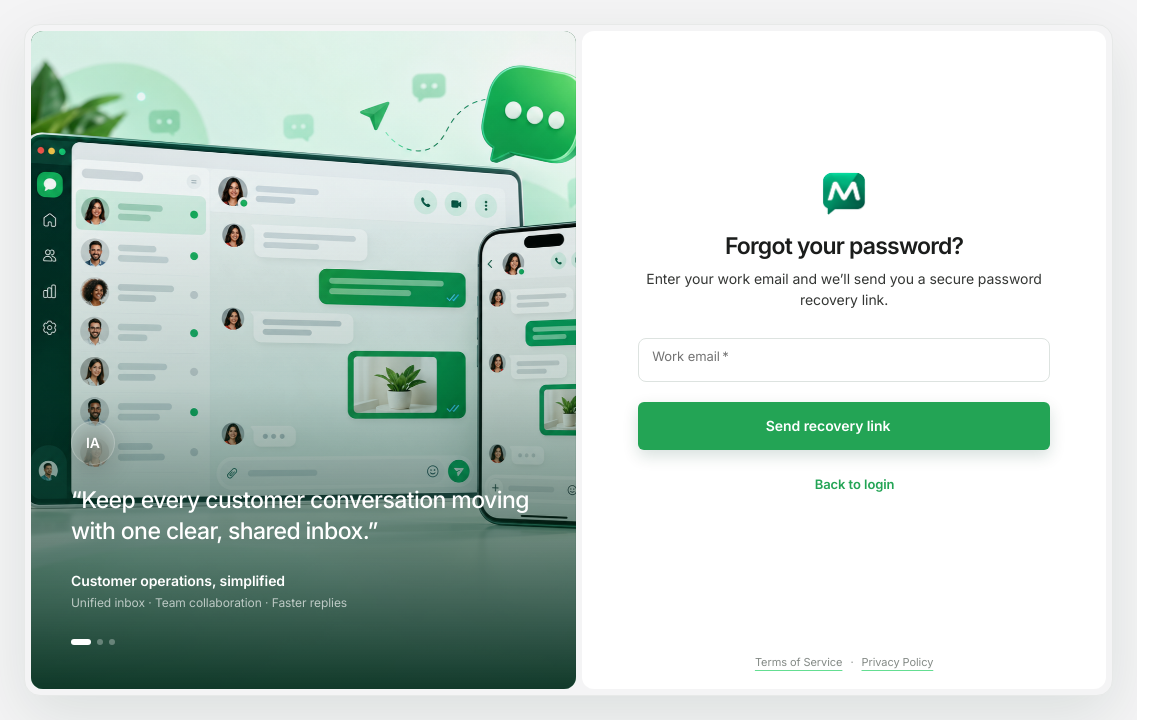
ForgotPassword › requests a recovery link and keeps the flow inside the shared auth shell
Type "owner@example.com" into the field labelled "Work email" at (844, 360), box 638,349 -> 1050,371
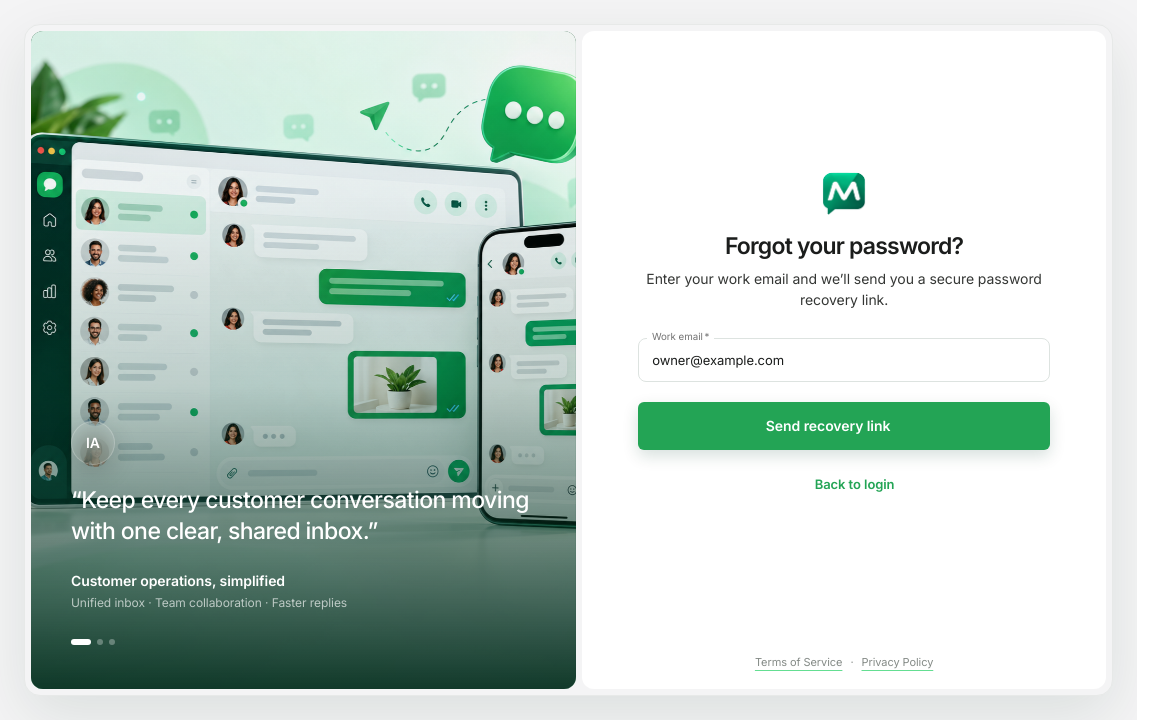
Click the button "Send recovery link" at (844, 426), box 638,402 -> 1050,450
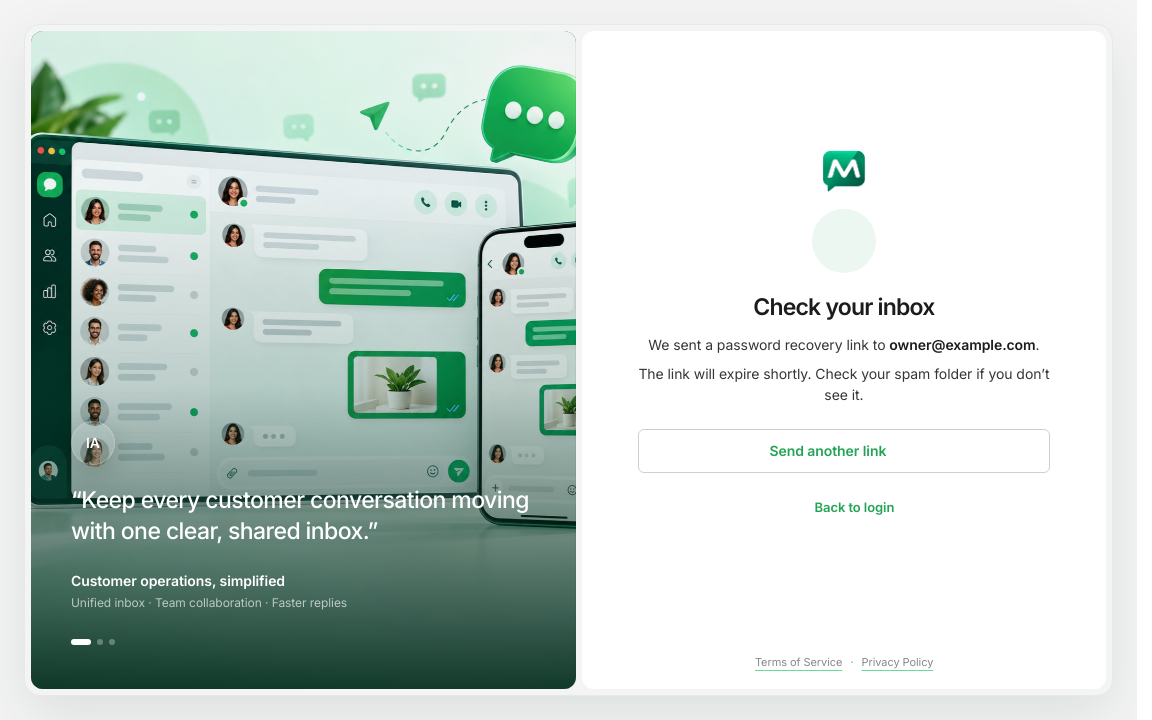
Expected: the heading "Check your inbox" is shown, 754,293 -> 935,321
Expected: the text "owner@example.com" is shown, 890,336 -> 1036,353
